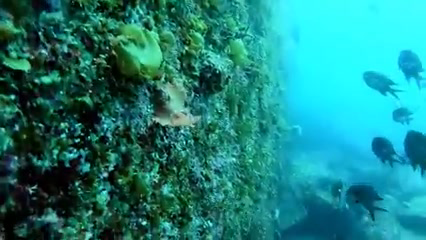mezina: (342, 180, 392, 233), (357, 68, 407, 103), (397, 45, 426, 91), (368, 137, 402, 172), (388, 104, 416, 128)
